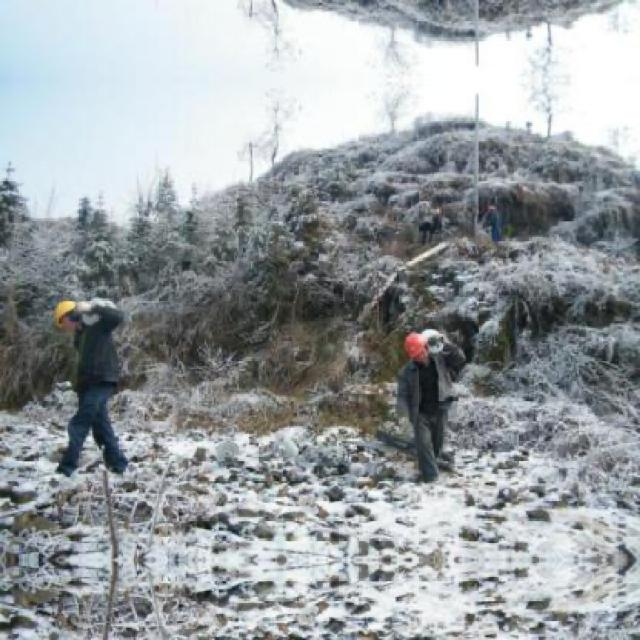helmet: (54, 297, 83, 334), (403, 331, 429, 363)
